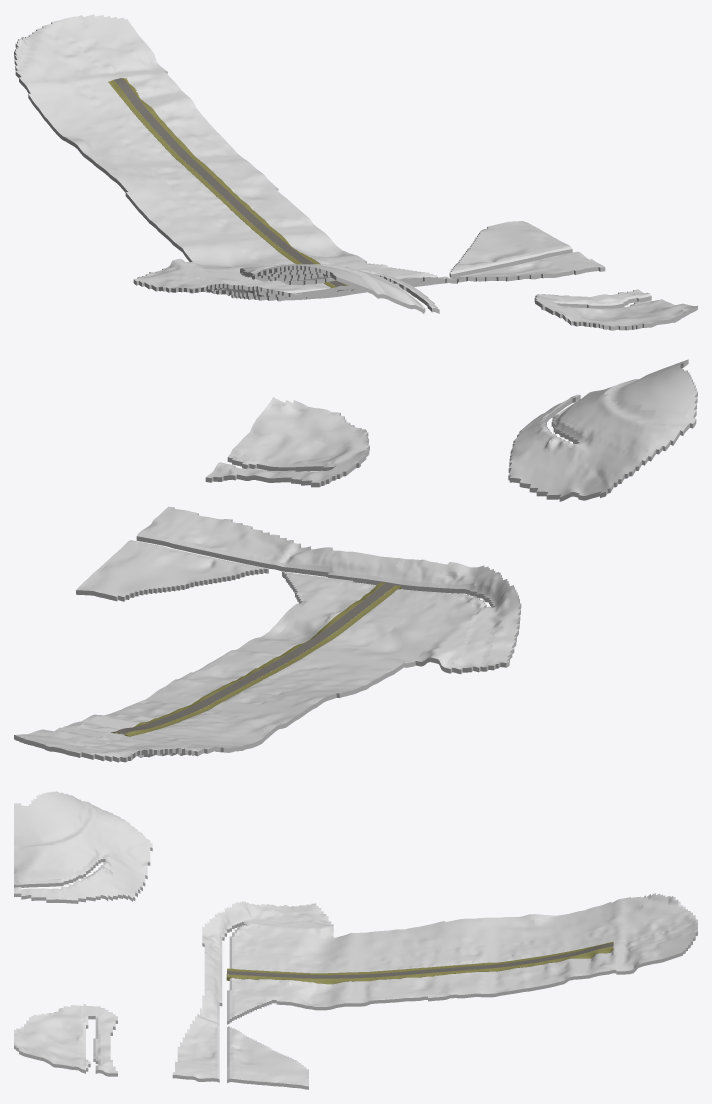
Rendered from conz_119.glb.
3 views of the same model, one above another, from view 1: azimuth 30°, elevation 25°; view 2: azimuth 150°, elevation 25°; view 3: azimuth 270°, elevation 25° (orthographic). The views are drawn at different scales.
Parts seen in each view (by area): view 1: terrain119, road119, verge119L, verge119R; view 2: terrain119, road119, verge119L, verge119R; view 3: terrain119, verge119R, road119, verge119L.
Boxes of the visible parts, left/top/right/bottom form: terrain119: left=14, top=14, right=697, bottom=330; road119: left=113, top=78, right=345, bottom=286; verge119L: left=108, top=80, right=335, bottom=287; verge119R: left=122, top=78, right=348, bottom=285; terrain119: left=14, top=359, right=697, bottom=762; road119: left=115, top=583, right=395, bottom=734; verge119L: left=124, top=585, right=401, bottom=736; verge119R: left=111, top=582, right=385, bottom=733; terrain119: left=14, top=791, right=697, bottom=1089; verge119R: left=226, top=946, right=613, bottom=984; road119: left=227, top=943, right=613, bottom=978; verge119L: left=227, top=941, right=613, bottom=975.
Size of the model in its own units: 316 by 126 by 552.
